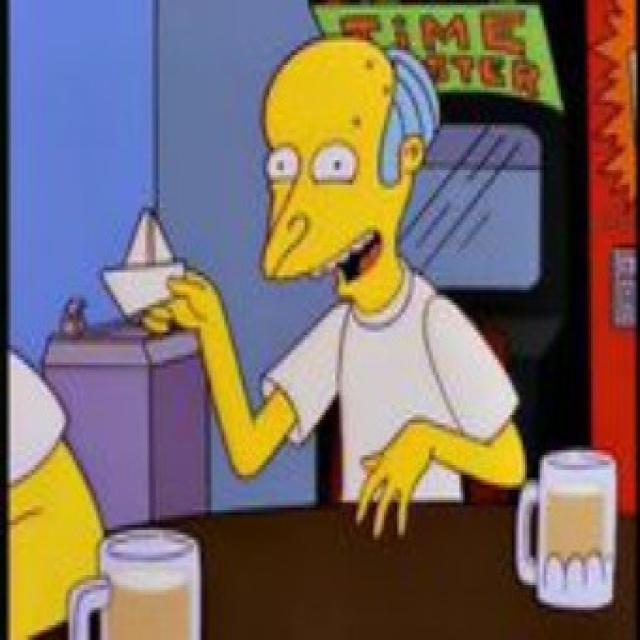Charles Montgomery Burns: (258, 39, 446, 306)
